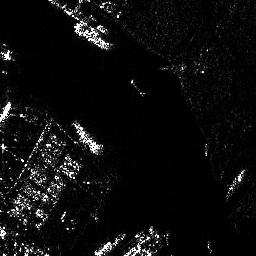ship: (72, 23, 114, 54), (71, 119, 104, 157), (94, 231, 126, 256), (226, 167, 246, 198)
